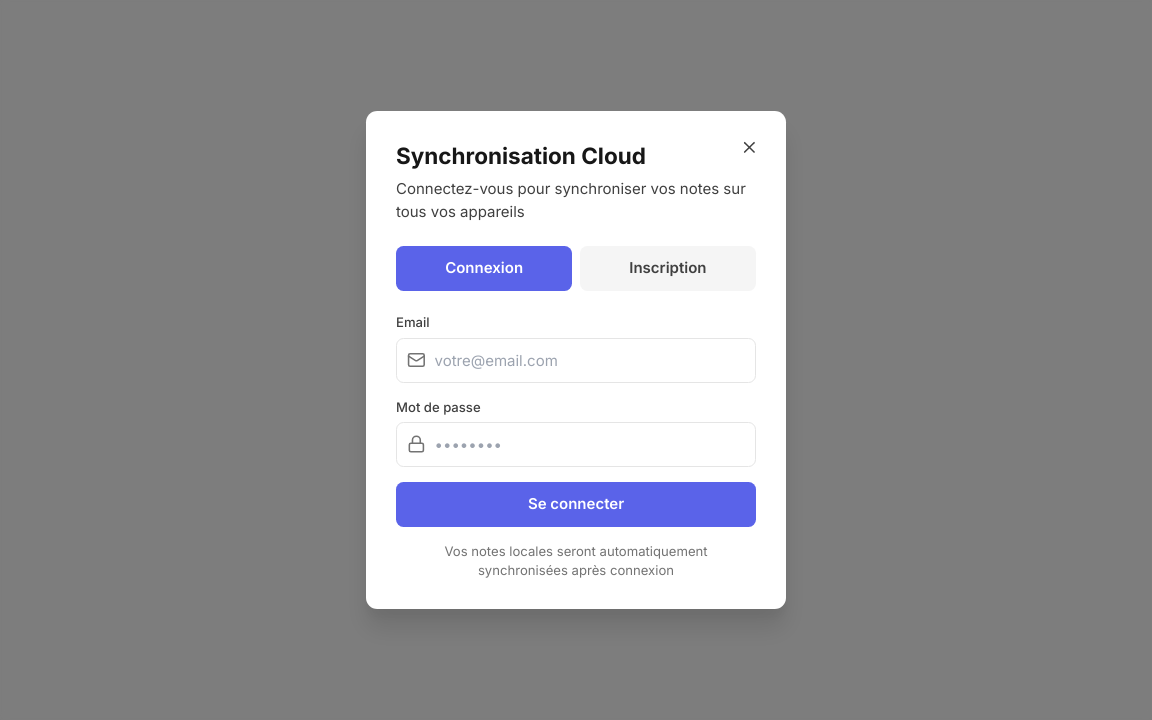
Scenario: AuthModal › Form Submission › should show loading state during submission
Type "test@example.com" into the field labelled "Email" at (576, 360), box [396,338,756,382]
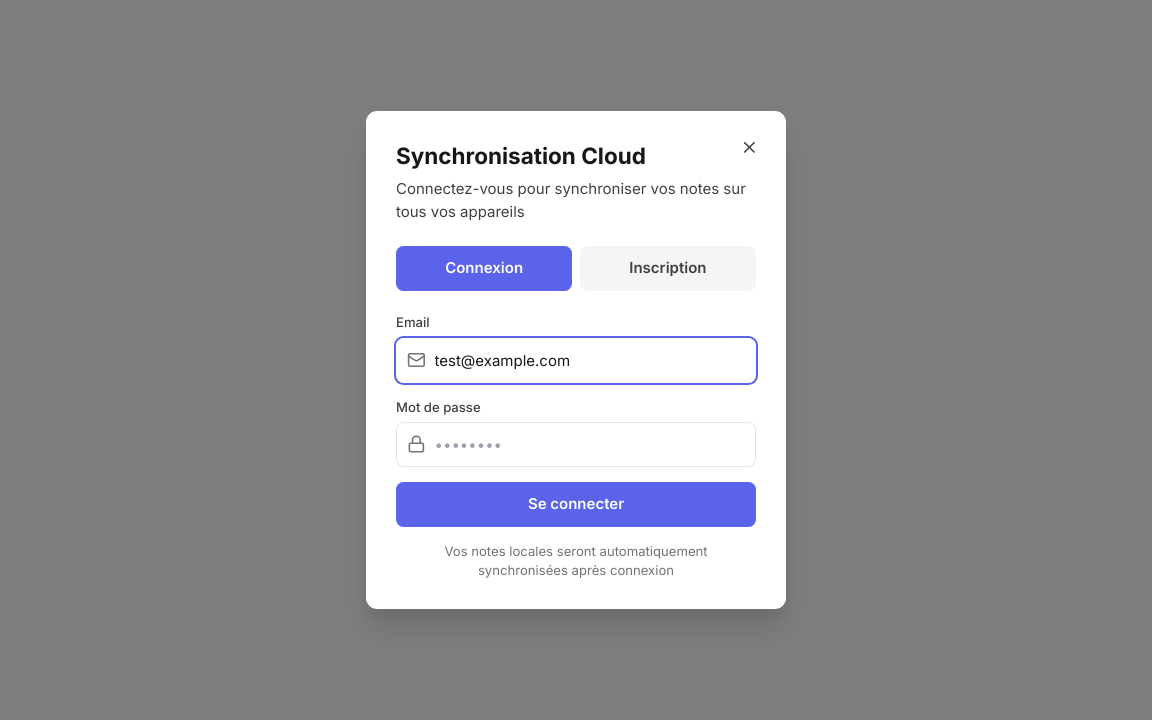
Type "password123" into the password field labelled "Mot de passe" at (576, 444), box [396,422,756,467]
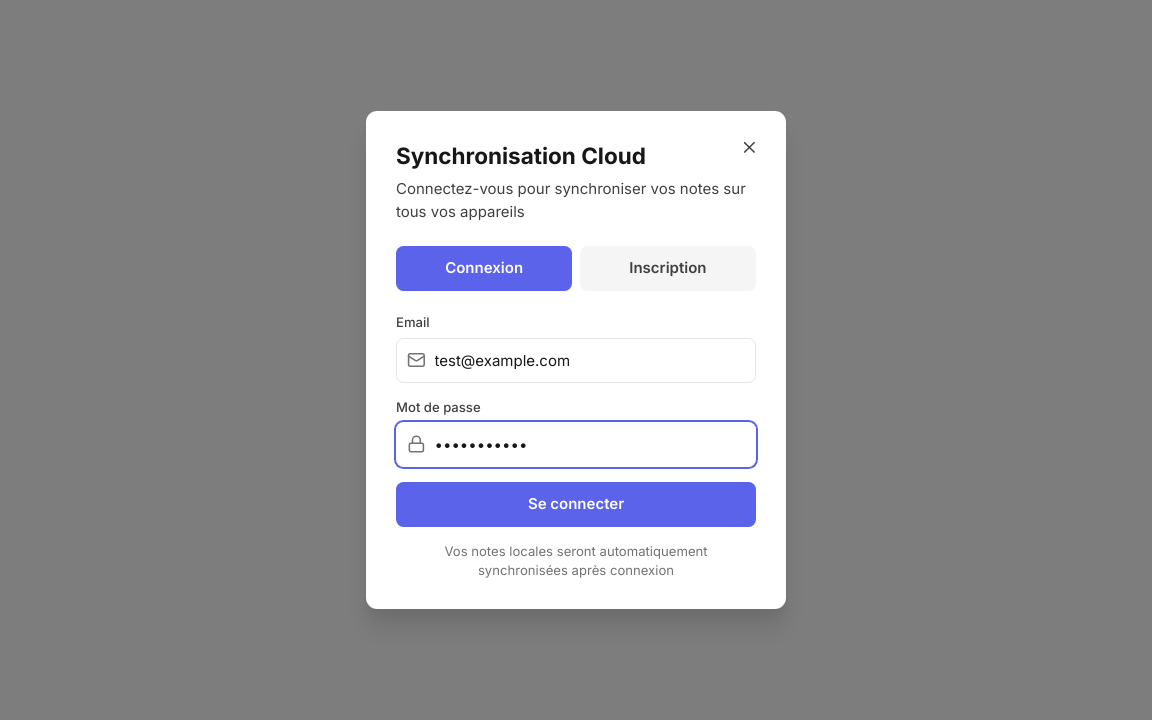
Click the button "Se connecter" at (576, 504), box [396,482,756,527]
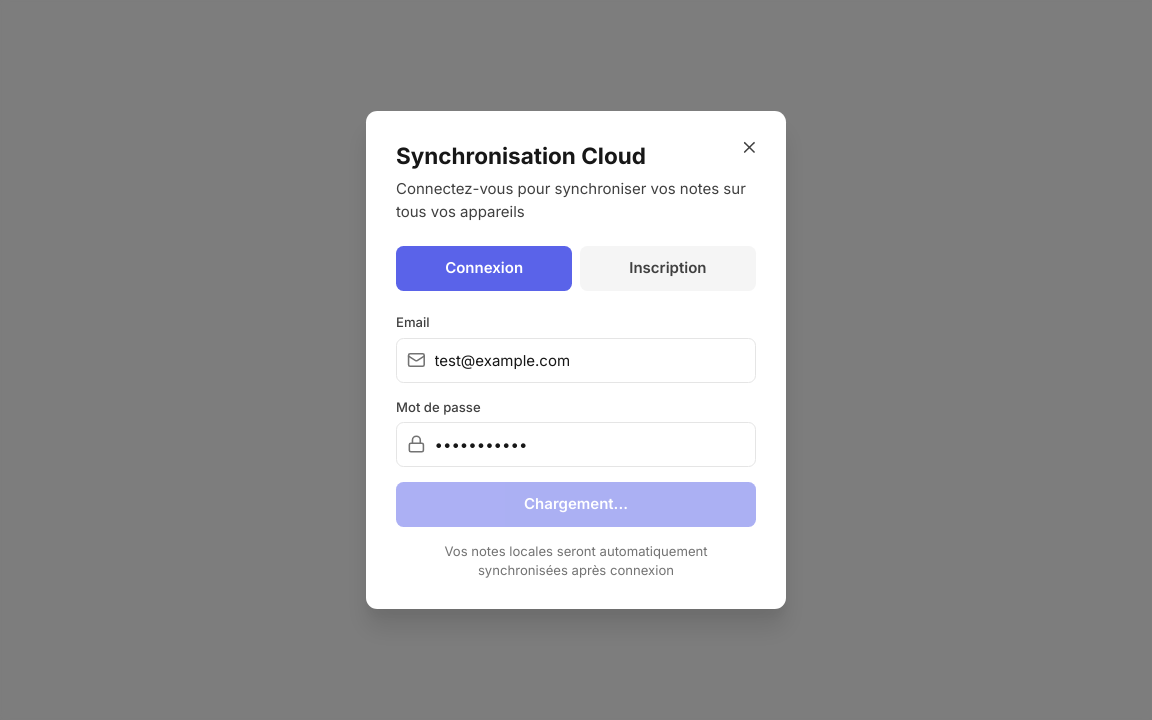
Now the button "Chargement..." is shown, box [396,482,756,527]
